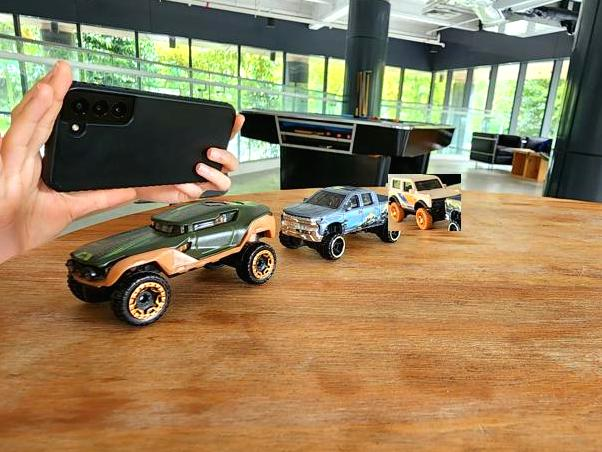toy-car: (64, 200, 276, 326), (278, 186, 404, 261), (388, 174, 461, 231)
